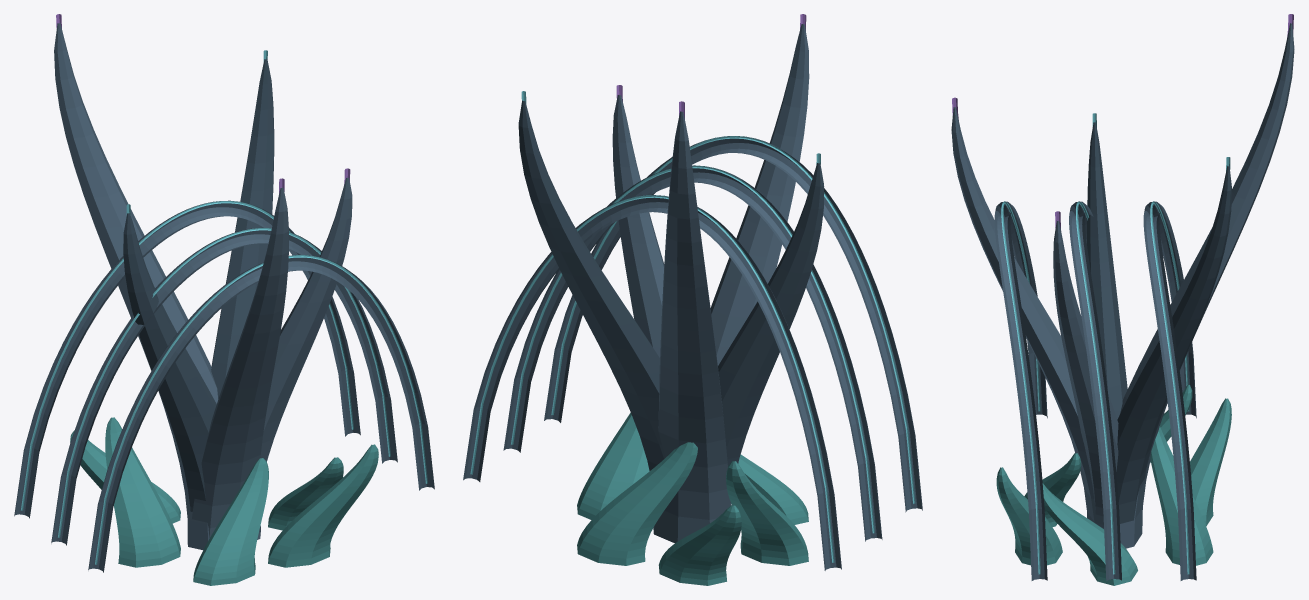
File: hexcore_elven_sanctuary_06.glb
The picture shows the model from 3 angles, left to right: view 1: azimuth 30°, elevation 25°; view 2: azimuth 150°, elevation 25°; view 3: azimuth 270°, elevation 25°; orthographic projection. The views are drawn at different scales.
Visible parts, largest first — view 1: world; view 2: world; view 3: world.
Part boxes in pixels (x1,y1,x2,y2): world: (14, 14, 434, 585); world: (463, 14, 922, 585); world: (951, 14, 1294, 585).
Size of the model in its own units: 32.21 by 42.71 by 27.62.
